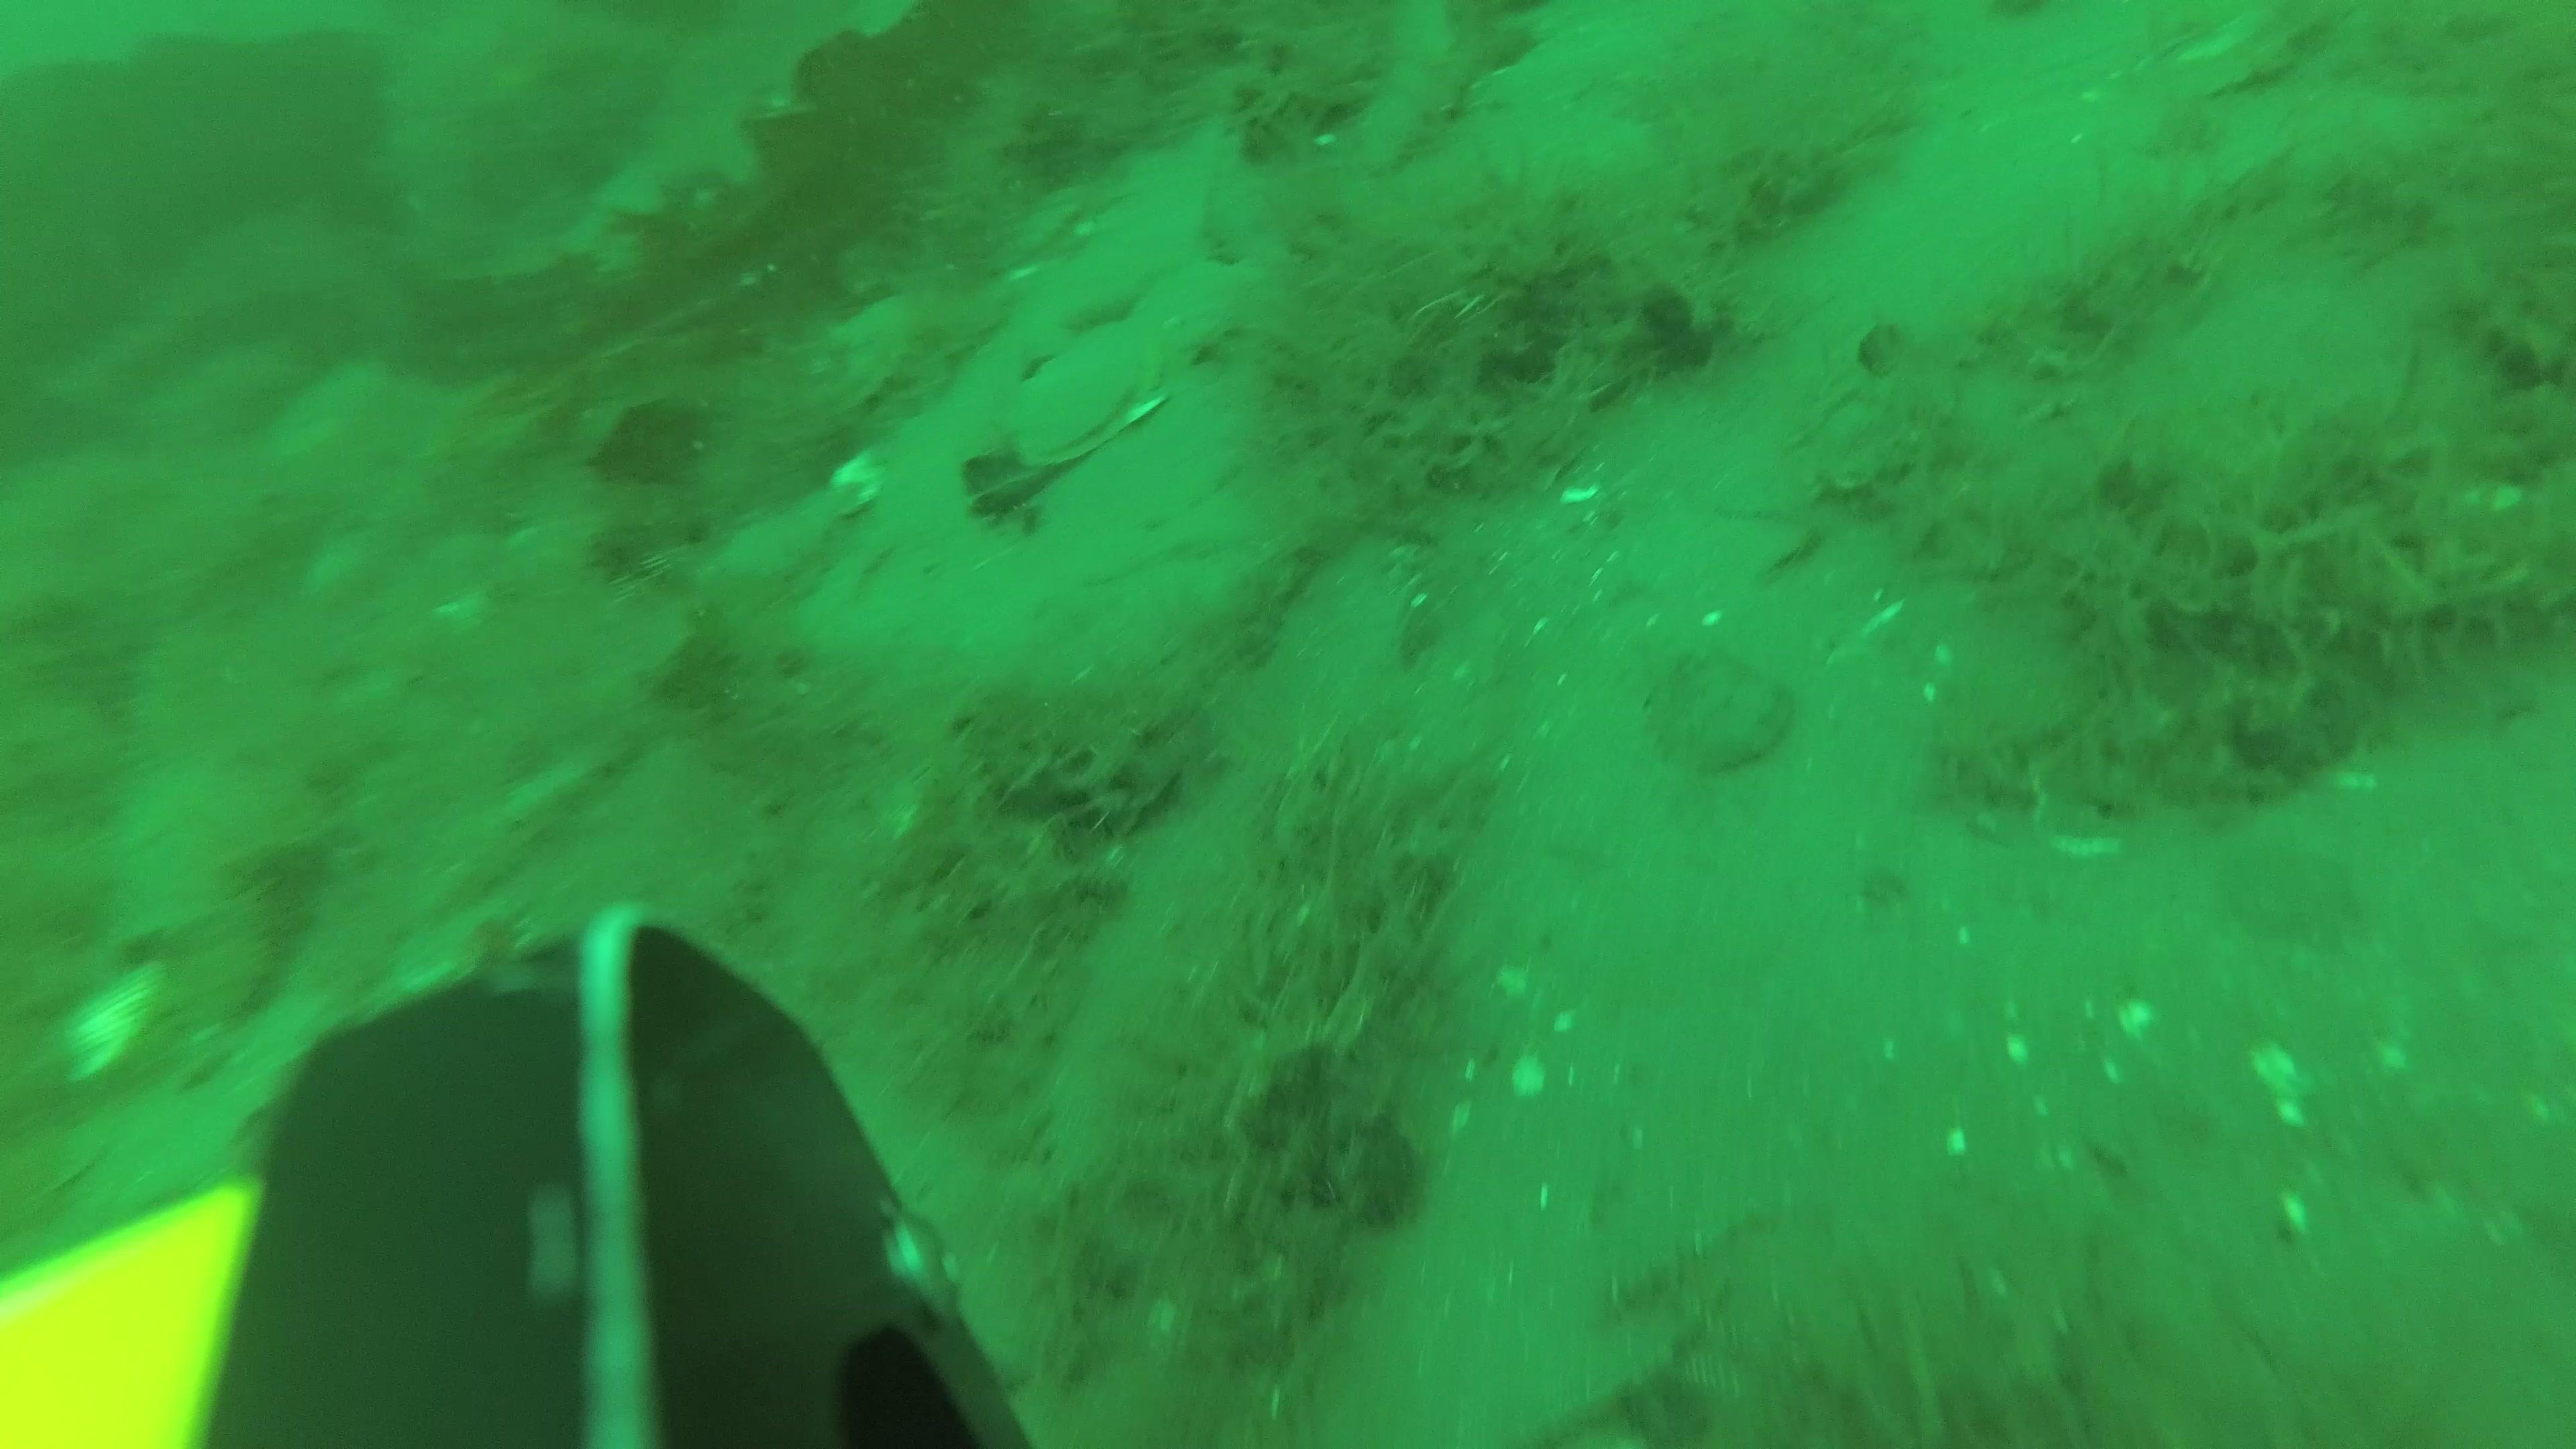scallop: (1019, 326, 1145, 471), (1139, 258, 1238, 375), (819, 299, 911, 425)
